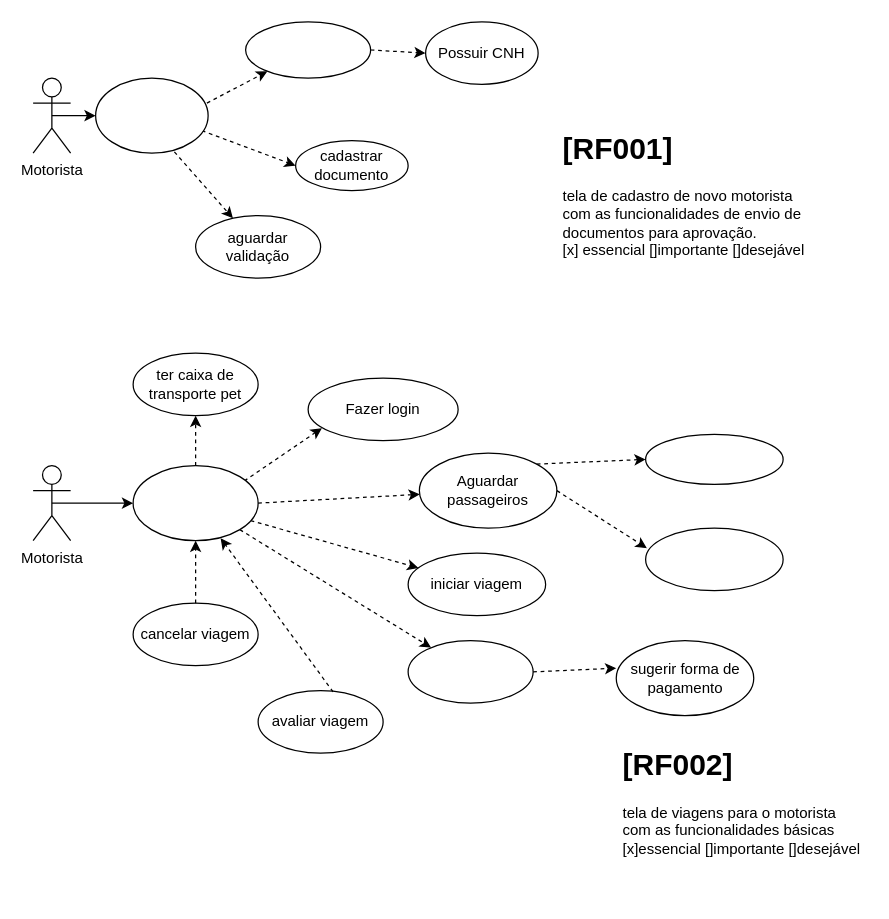
This 889x919 diagram has some shape labels left out. The box of each missing label's shape, as (x1, y1, x2, y2) in pixels:
[RF001] cadastrar-se: (94, 77, 208, 153)
[RF002] fazer viagens: (132, 464, 258, 541)
aceitar viagens: (644, 527, 783, 591)
cadastrar veículo |: (244, 21, 371, 78)
finalizar viagem: (407, 639, 533, 703)
listar viagens: (644, 433, 783, 484)
